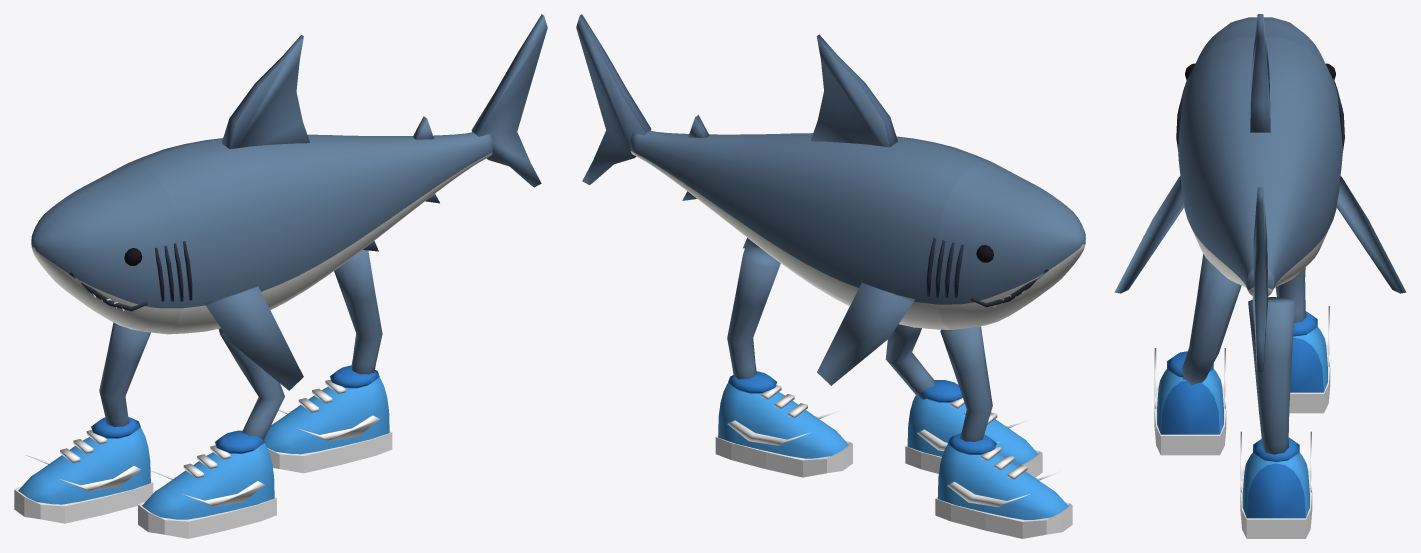
File: Tralalero.fbx
The picture shows the model from 3 angles, left to right: view 1: azimuth 30°, elevation 25°; view 2: azimuth 150°, elevation 25°; view 3: azimuth 270°, elevation 25°; orthographic projection. The views are drawn at different scales.
Visible parts, largest first — view 1: Tralalero_UpperTorso, Tralalero_Head, Tralalero_RightUpperLeg, Tralalero_LeftUpperLeg, Tralalero_LeftLowerLeg, Tralalero_LeftUpperArm; view 2: Tralalero_UpperTorso, Tralalero_Head, Tralalero_RightUpperLeg, Tralalero_LeftUpperLeg, Tralalero_LeftLowerLeg, Tralalero_RightUpperArm; view 3: Tralalero_UpperTorso, Tralalero_RightUpperLeg, Tralalero_LeftLowerLeg, Tralalero_LeftUpperLeg, Tralalero_Head, Tralalero_LeftUpperArm, Tralalero_RightUpperArm.
Part boxes in pixels (x1=…): Tralalero_UpperTorso: x1=127, y1=14, x2=547, y2=334; Tralalero_Head: x1=31, y1=163, x2=192, y2=334; Tralalero_RightUpperLeg: x1=264, y1=250, x2=392, y2=473; Tralalero_LeftUpperLeg: x1=14, y1=322, x2=153, y2=523; Tralalero_LeftLowerLeg: x1=138, y1=328, x2=284, y2=538; Tralalero_LeftUpperArm: x1=204, y1=286, x2=303, y2=390; Tralalero_UpperTorso: x1=576, y1=14, x2=990, y2=329; Tralalero_Head: x1=926, y1=161, x2=1085, y2=329; Tralalero_RightUpperLeg: x1=715, y1=246, x2=852, y2=477; Tralalero_LeftUpperLeg: x1=935, y1=326, x2=1072, y2=538; Tralalero_LeftLowerLeg: x1=885, y1=324, x2=1042, y2=477; Tralalero_RightUpperArm: x1=817, y1=282, x2=914, y2=385; Tralalero_UpperTorso: x1=1178, y1=14, x2=1342, y2=371; Tralalero_RightUpperLeg: x1=1240, y1=297, x2=1312, y2=538; Tralalero_LeftLowerLeg: x1=1154, y1=254, x2=1241, y2=455; Tralalero_LeftUpperLeg: x1=1275, y1=267, x2=1330, y2=413; Tralalero_Head: x1=1176, y1=17, x2=1344, y2=152; Tralalero_LeftUpperArm: x1=1114, y1=176, x2=1184, y2=293; Tralalero_RightUpperArm: x1=1336, y1=176, x2=1406, y2=293.
Bounding box in the file's own units: 5.84 × 4.68 × 2.59.
Materials: 1 (1 with a texture image).
